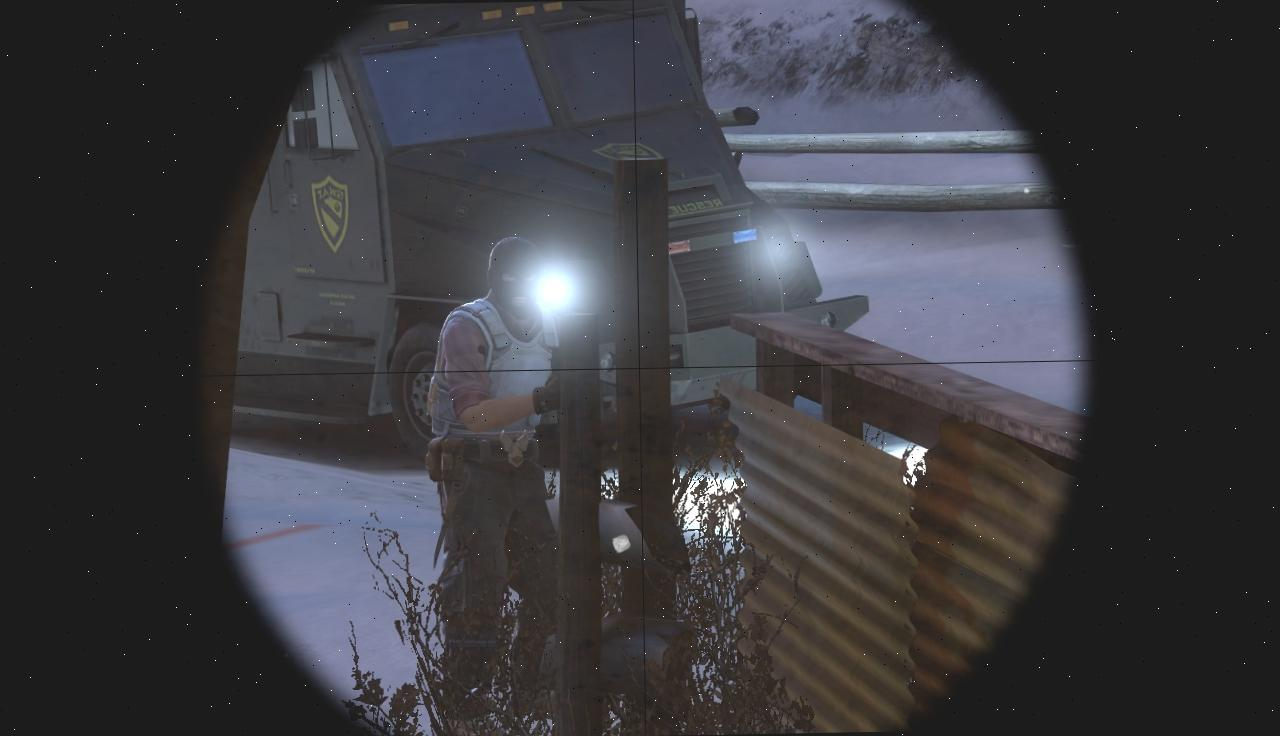tt: (424, 236, 566, 728)
tthead: (488, 236, 545, 322)
